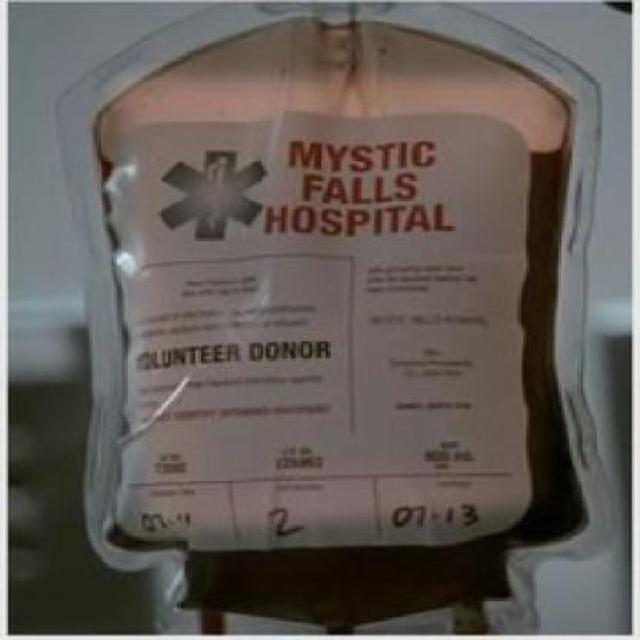B3: (38, 0, 624, 638)
